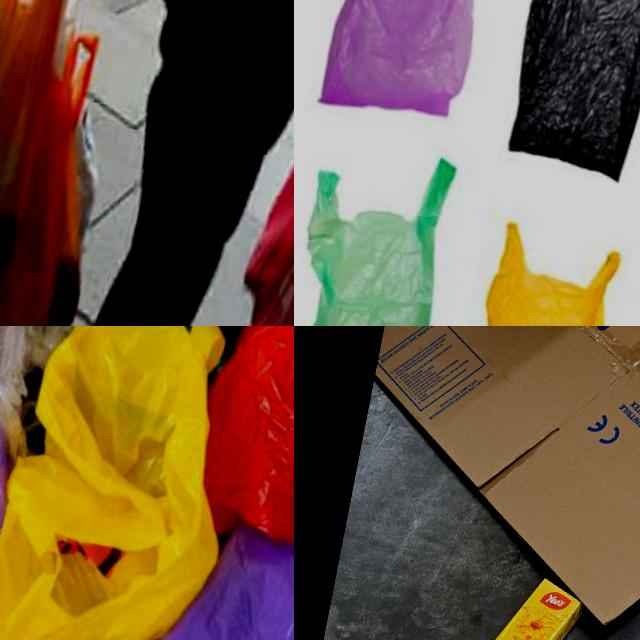caixinha: (472, 565, 586, 640)
papelão: (335, 326, 640, 640)
sacola plástica: (0, 326, 235, 640), (0, 0, 170, 326), (294, 126, 468, 326), (150, 326, 294, 563), (439, 176, 640, 326), (308, 0, 514, 144), (485, 0, 640, 189), (208, 0, 294, 326), (0, 326, 81, 640)
